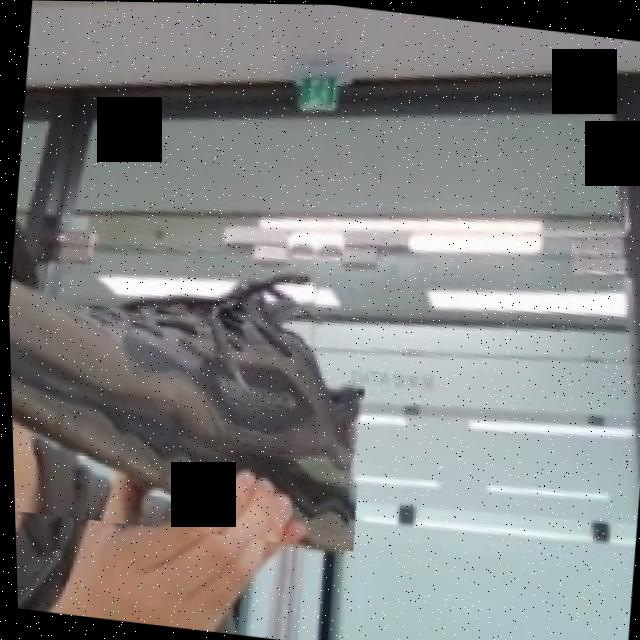shoe: (6, 238, 377, 550)
